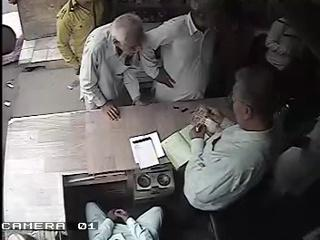Normal: (182, 65, 288, 216), (139, 0, 225, 103), (78, 13, 150, 122), (55, 0, 110, 75), (85, 201, 164, 240)
